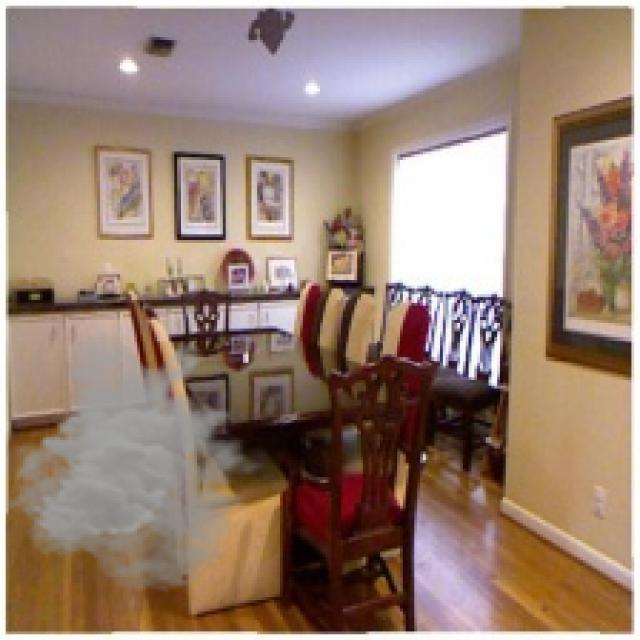smoke: (3, 332, 271, 594)
